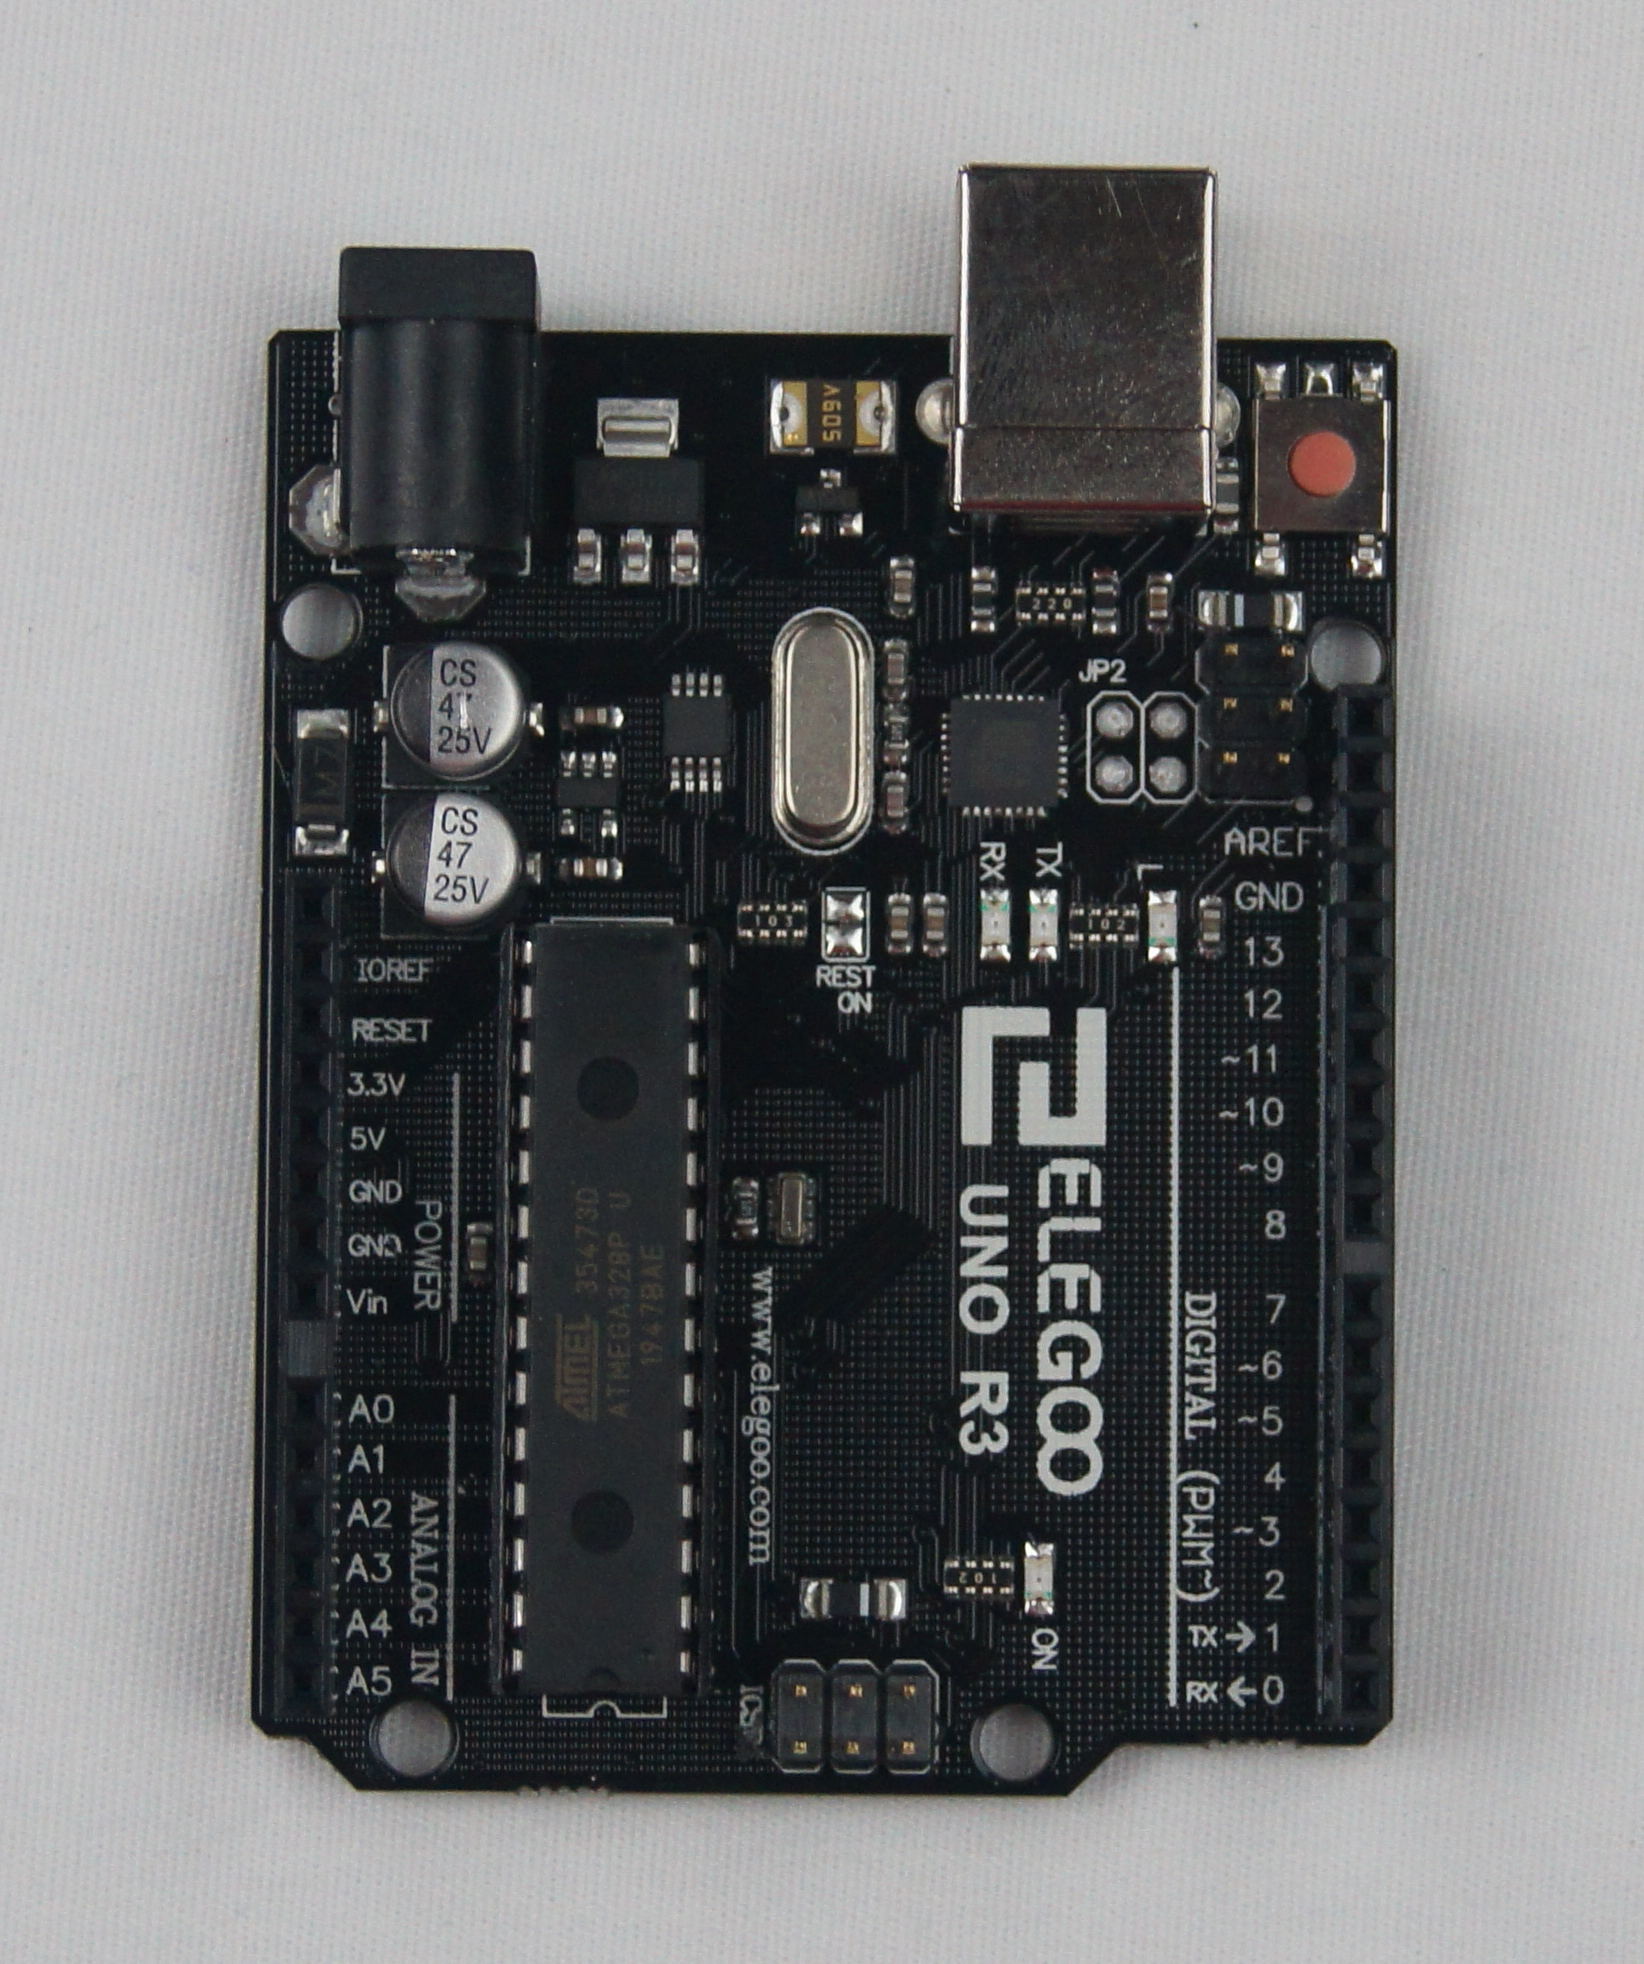kondensator: (373, 790, 522, 918), (377, 639, 514, 772), (558, 693, 620, 732), (1142, 579, 1174, 636), (887, 775, 920, 829), (1192, 897, 1223, 953), (462, 1227, 496, 1276), (881, 892, 912, 946), (564, 852, 626, 876), (886, 560, 917, 607), (887, 644, 917, 692), (921, 892, 946, 948)
